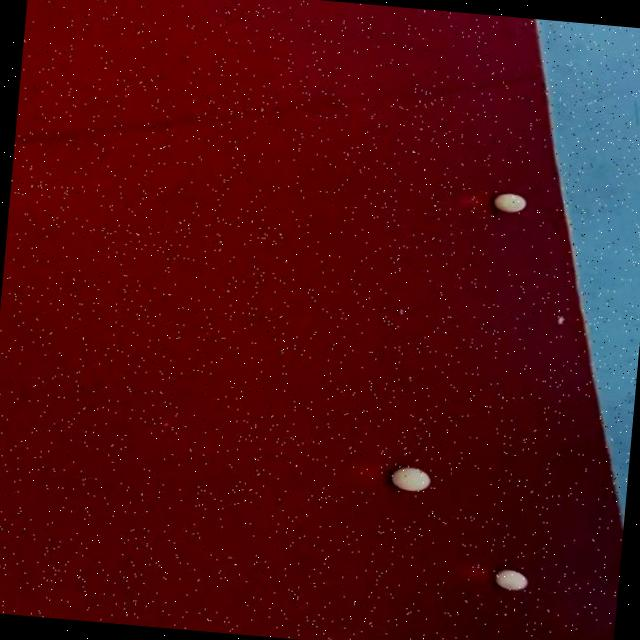ping-pong-ball: (387, 461, 434, 493), (490, 564, 530, 594), (486, 188, 528, 214)
